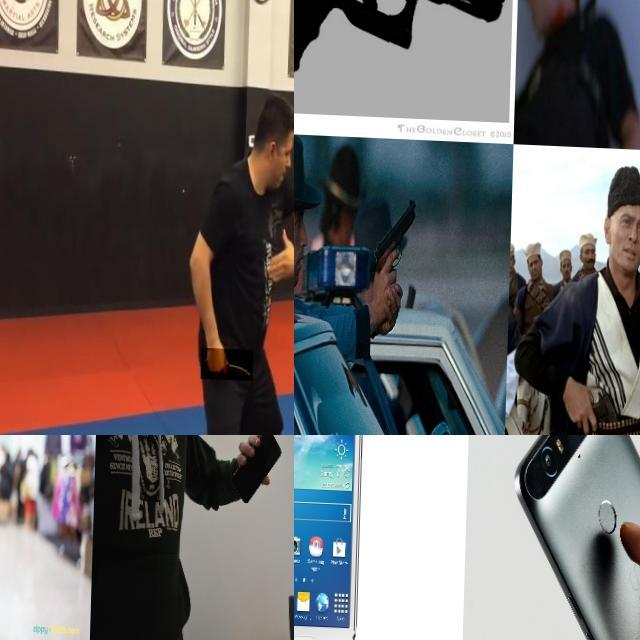-: (204, 345, 256, 378)
gun-knife-thesis - v11 Yolov5 augmented: (294, 0, 517, 150), (371, 194, 418, 323), (567, 355, 640, 435)
